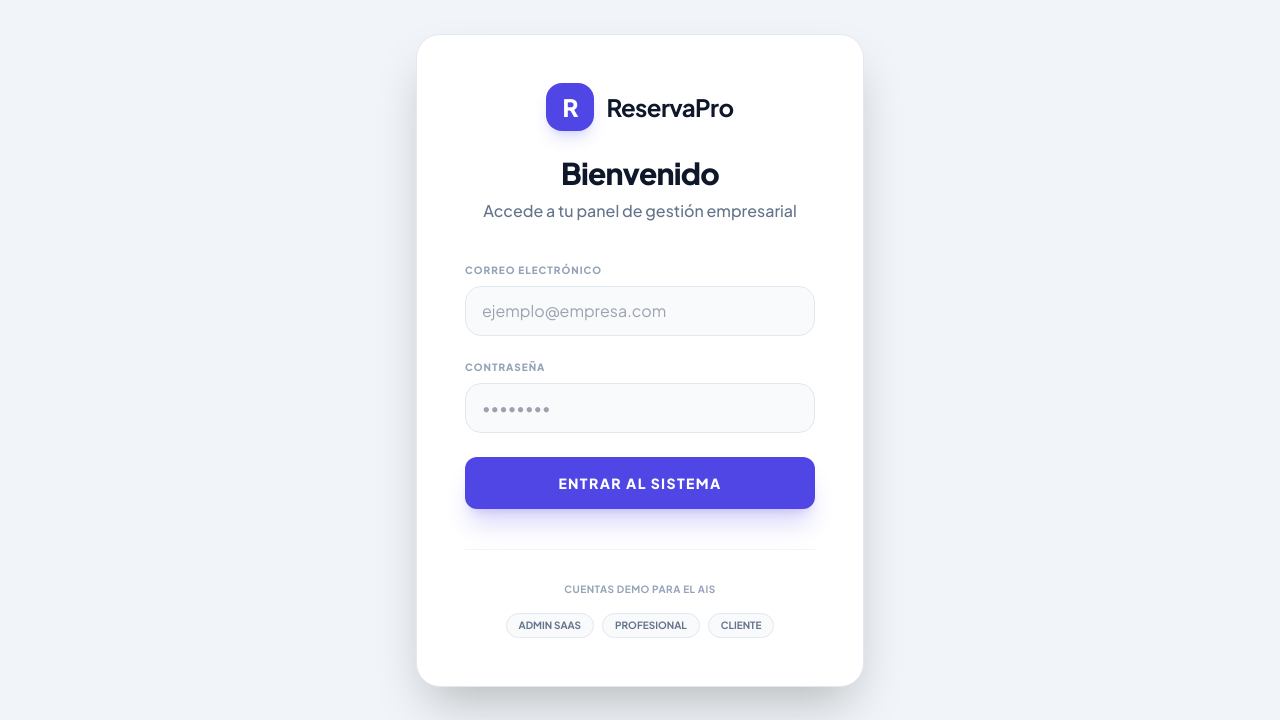
Test case: Pruebas E2E de reservas SaaS › 6) Profesional marca cita como ausente
Type "roberto@saludplus.com" into the field with test id "login-email" at [640, 311], box [465, 286, 815, 336]
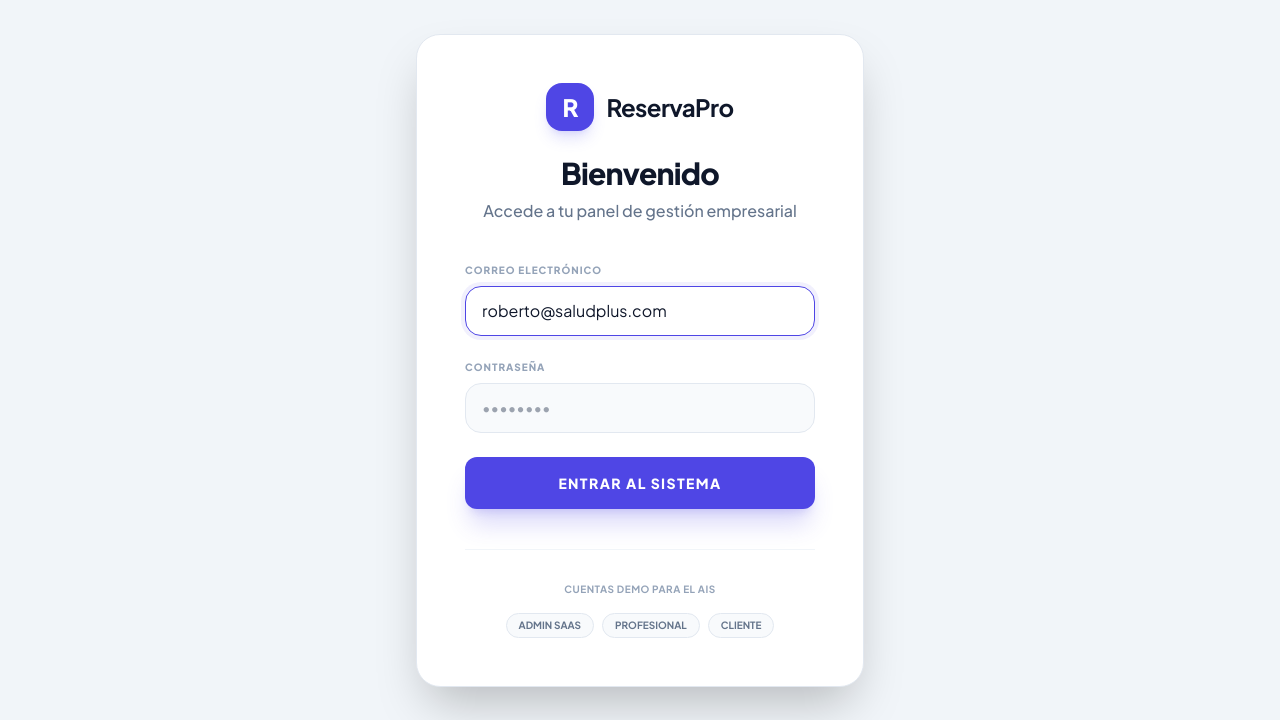
Type "propassword" into the password field with test id "login-password" at [640, 408], box [465, 383, 815, 433]
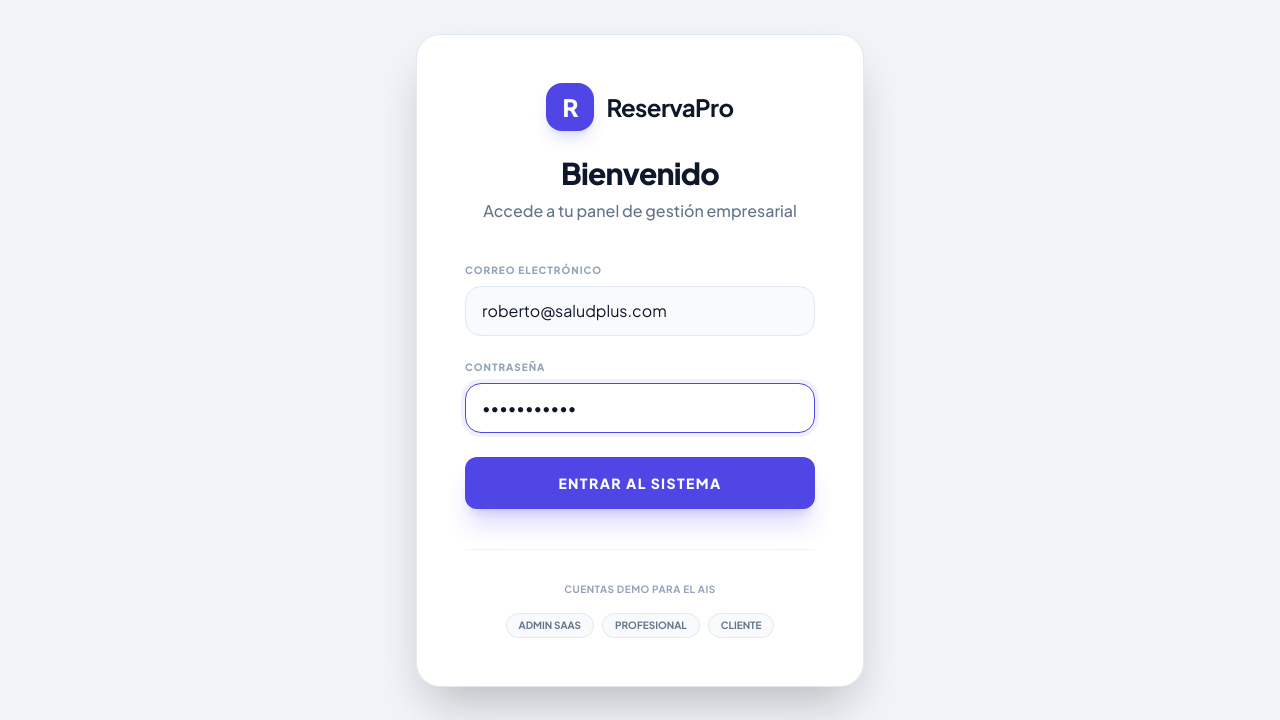
Click the button with test id "login-submit" at [640, 483], box [465, 457, 815, 509]
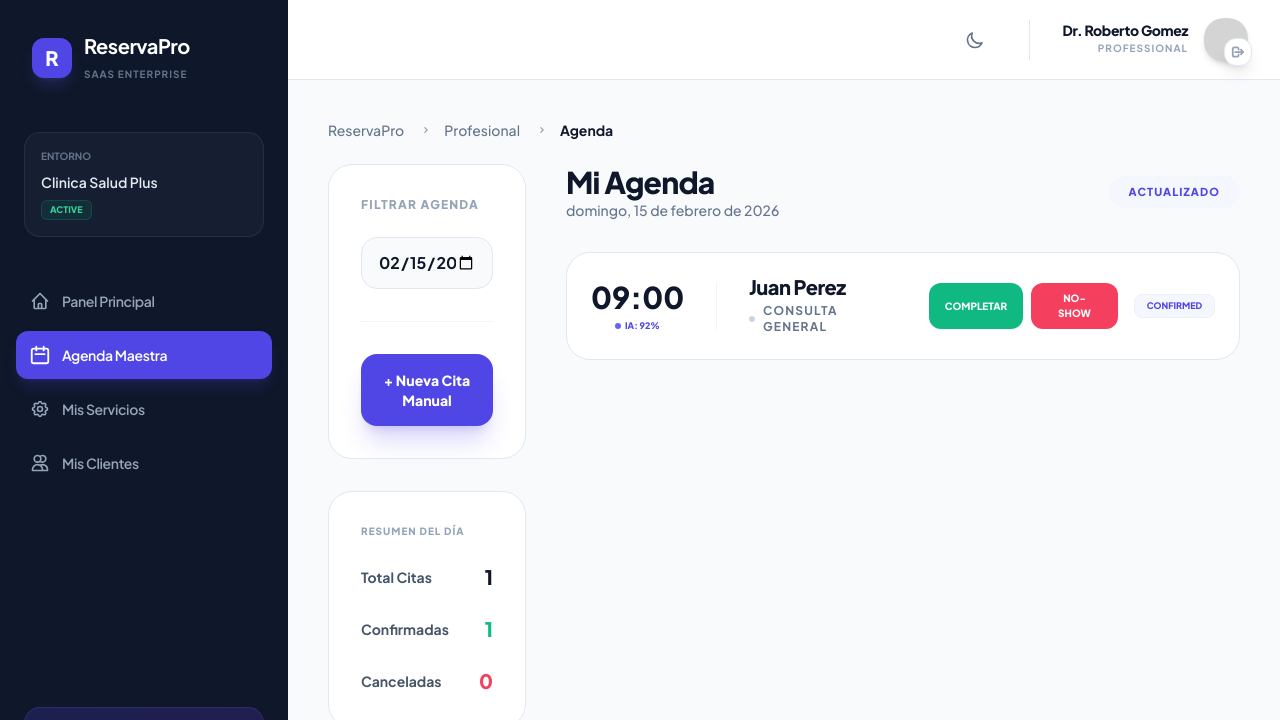
Click the button "No-Show" at [1074, 306], box [1031, 283, 1117, 329]
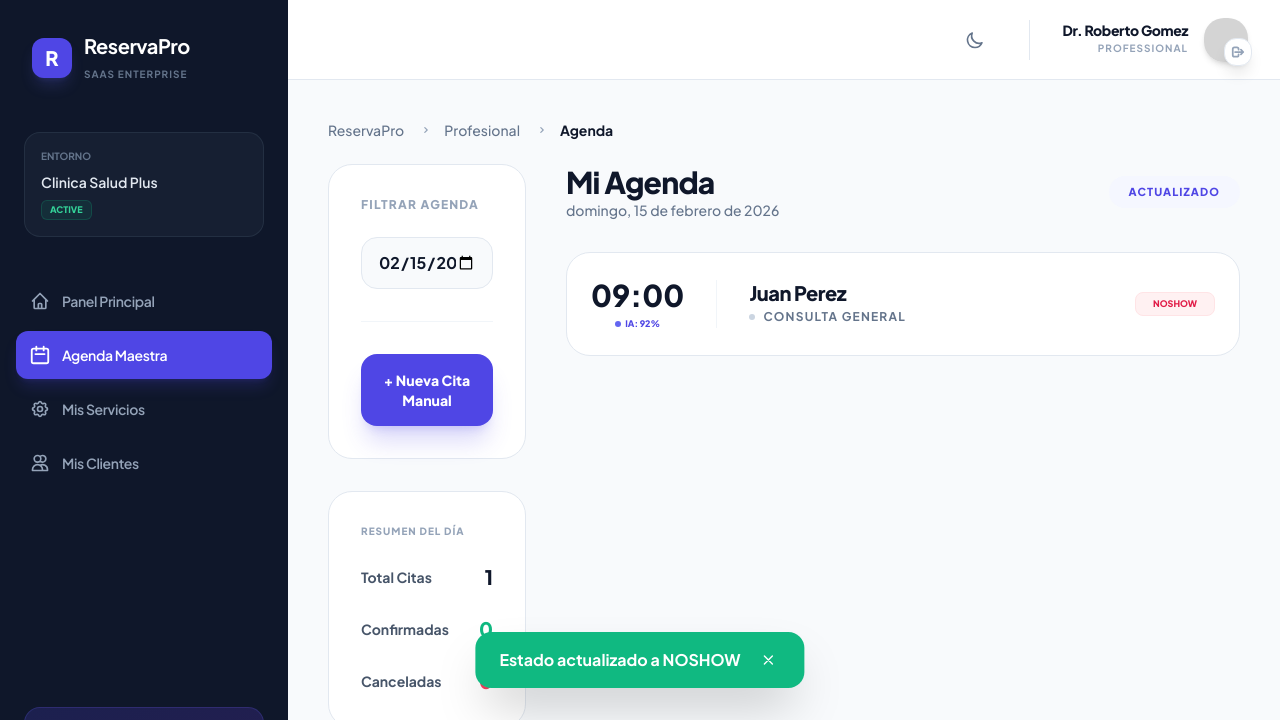
Now the text "NOSHOW" is shown, box [499, 649, 740, 670]
